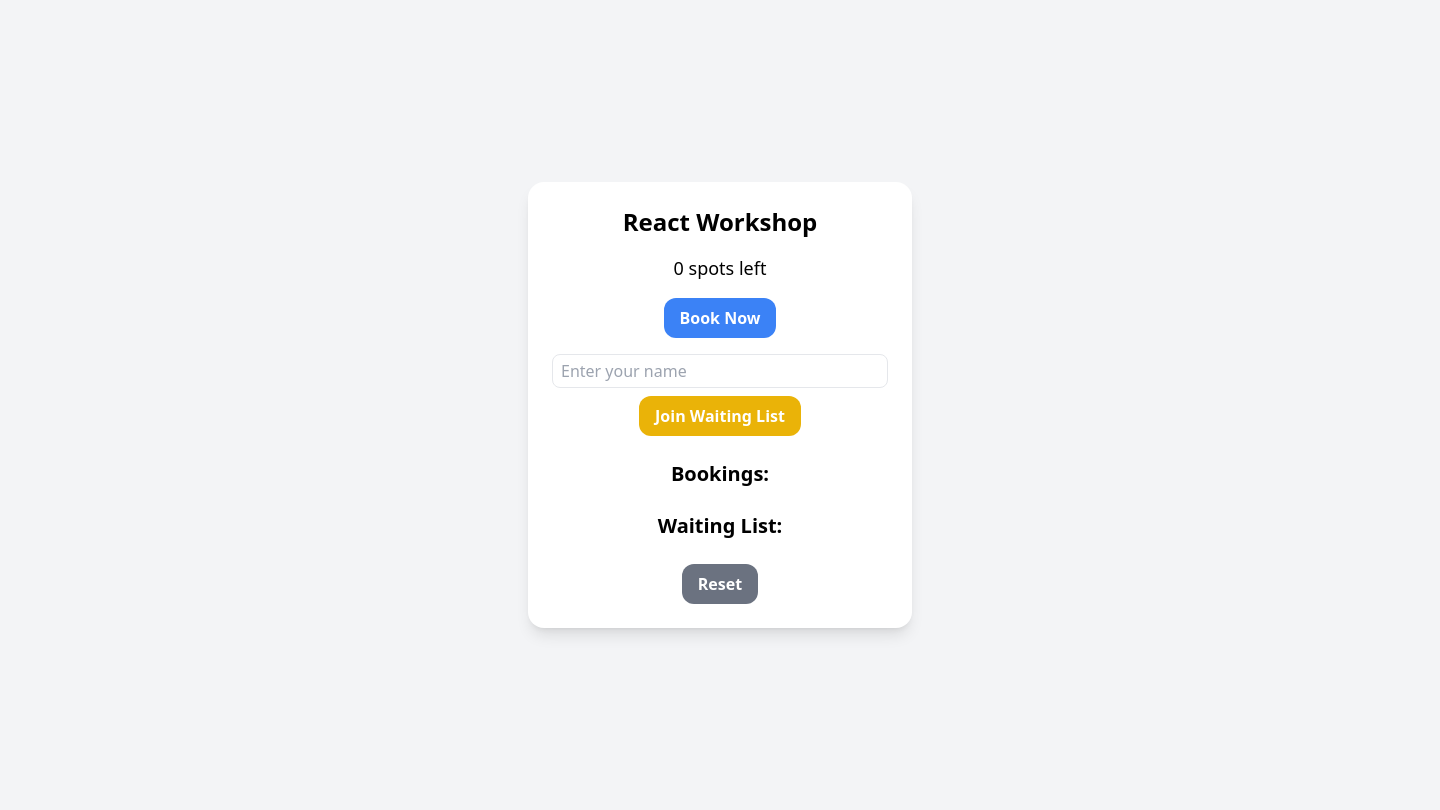
Test: EventBooking Component › joins the waiting list when name is entered and "Join Waiting List" is clicked
The width and height of the screenshot is (1440, 810).
In the field with placeholder "Enter your name": (720, 371) [552,354,888,388], type "John Doe"
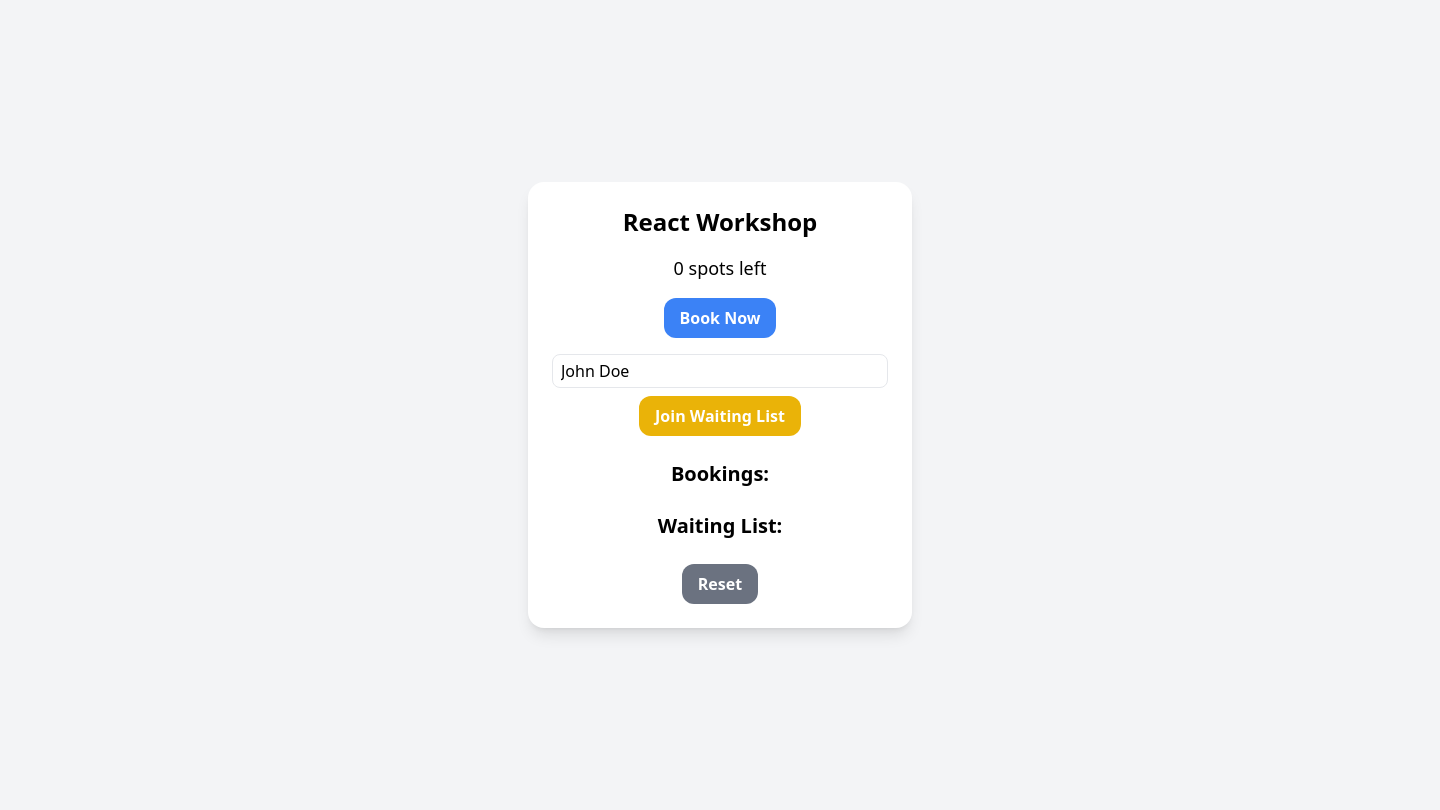
Click the button "Join Waiting List": (720, 416) [639,396,801,436]
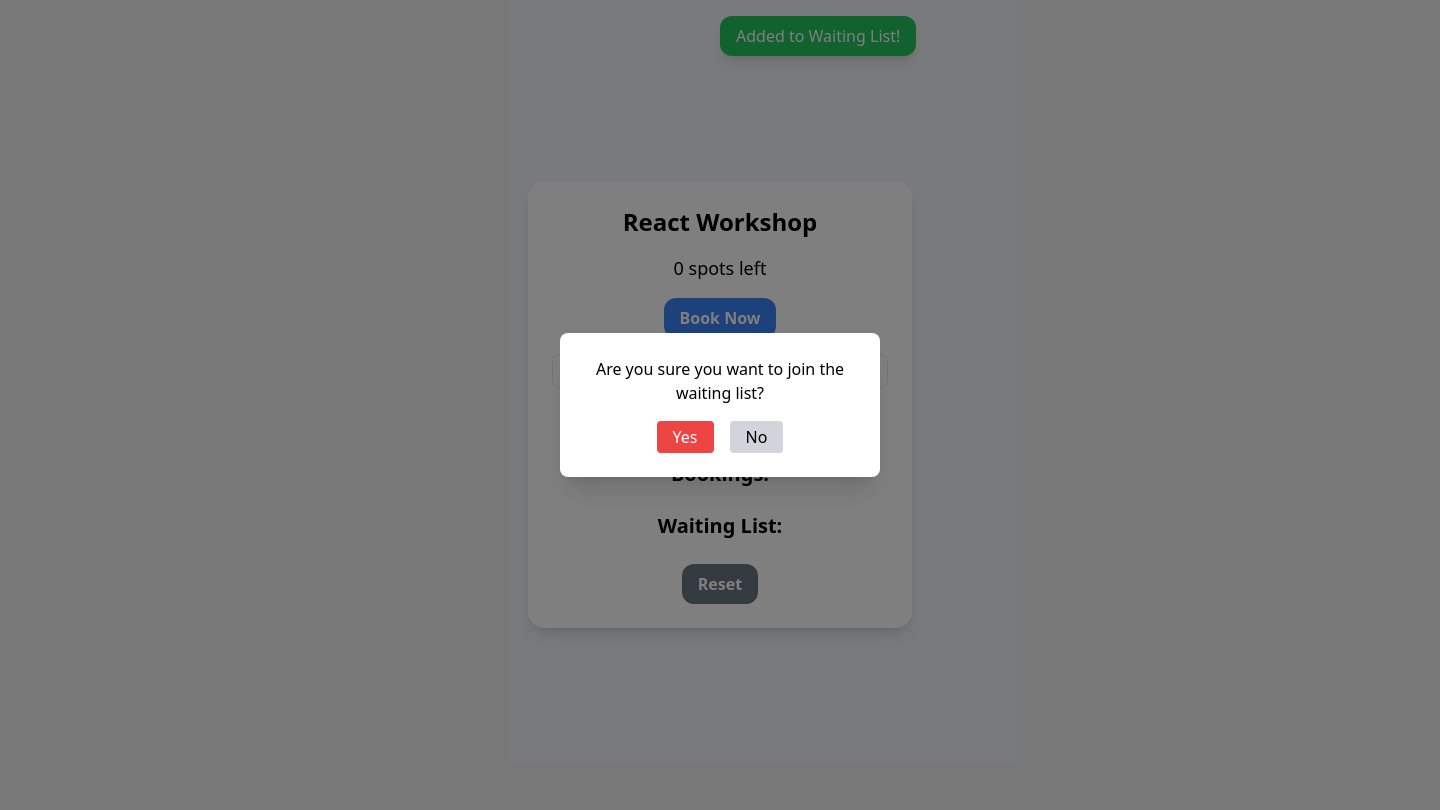
Now the text "Added to Waiting List!" is shown, box [720,16,916,56]
